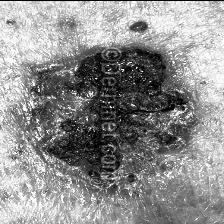Potentially Malignant Skin Tumors: (45, 44, 190, 170)
